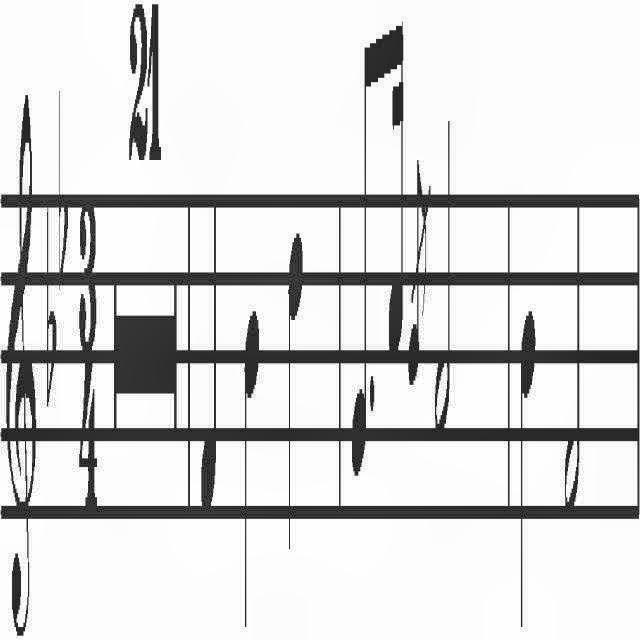Bass-clef: (0, 39, 39, 640)
Bemol: (55, 83, 69, 301), (44, 183, 56, 433)
Eighth-note: (343, 16, 369, 490)
Half-note: (557, 162, 583, 530), (434, 87, 456, 465)
Quarter-note: (194, 183, 222, 539), (516, 272, 540, 640), (285, 216, 307, 556), (242, 292, 262, 632)
Sixteenth-note: (387, 0, 407, 400)
